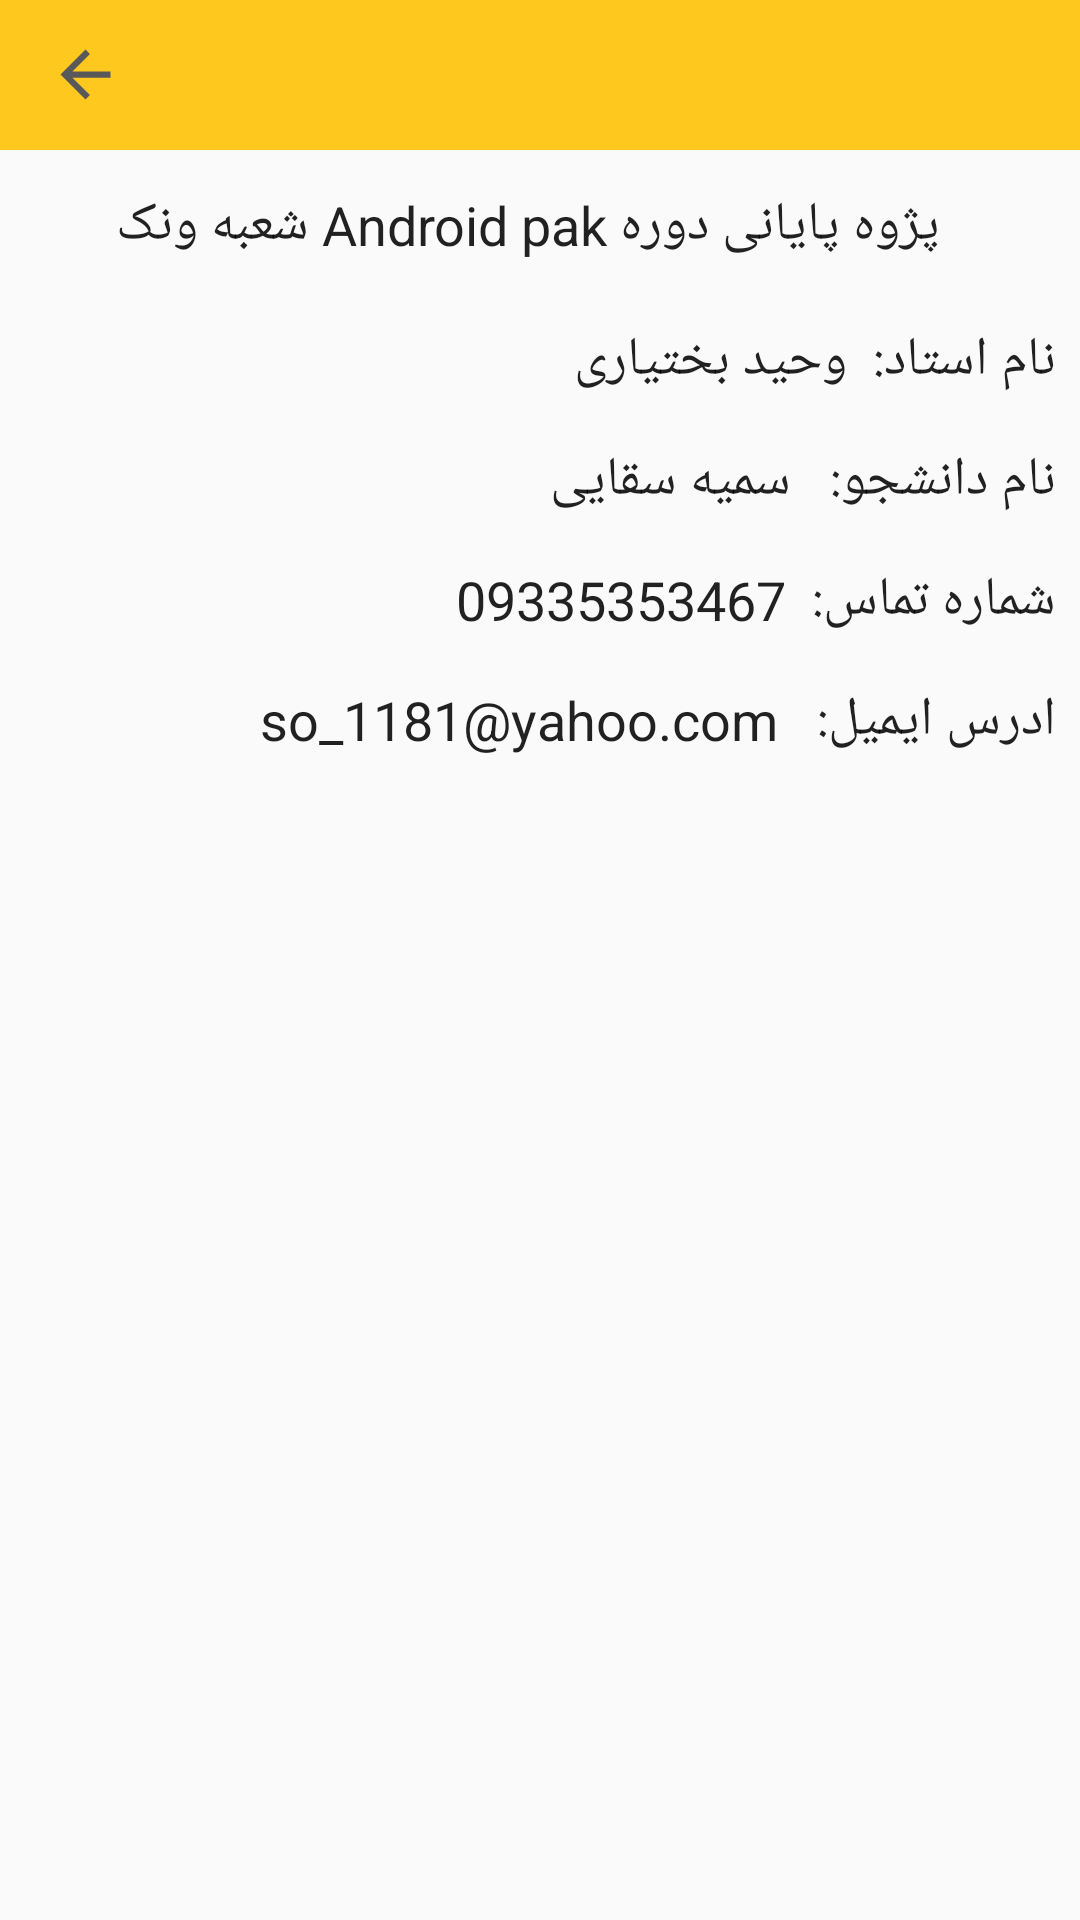

Where icons sit on this 1080×1920 app screen, as box(x1, y1, x2, y2):
arrow back: box(60, 49, 111, 100)
